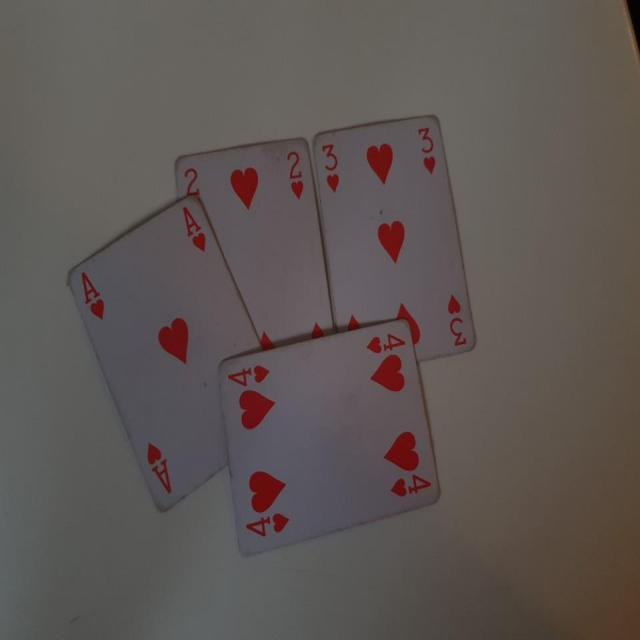2 Hearts: (172, 134, 324, 396)
3 Hearts: (304, 112, 480, 375)
4 Hearts: (215, 314, 447, 566)
A Hearts: (64, 194, 282, 525)
